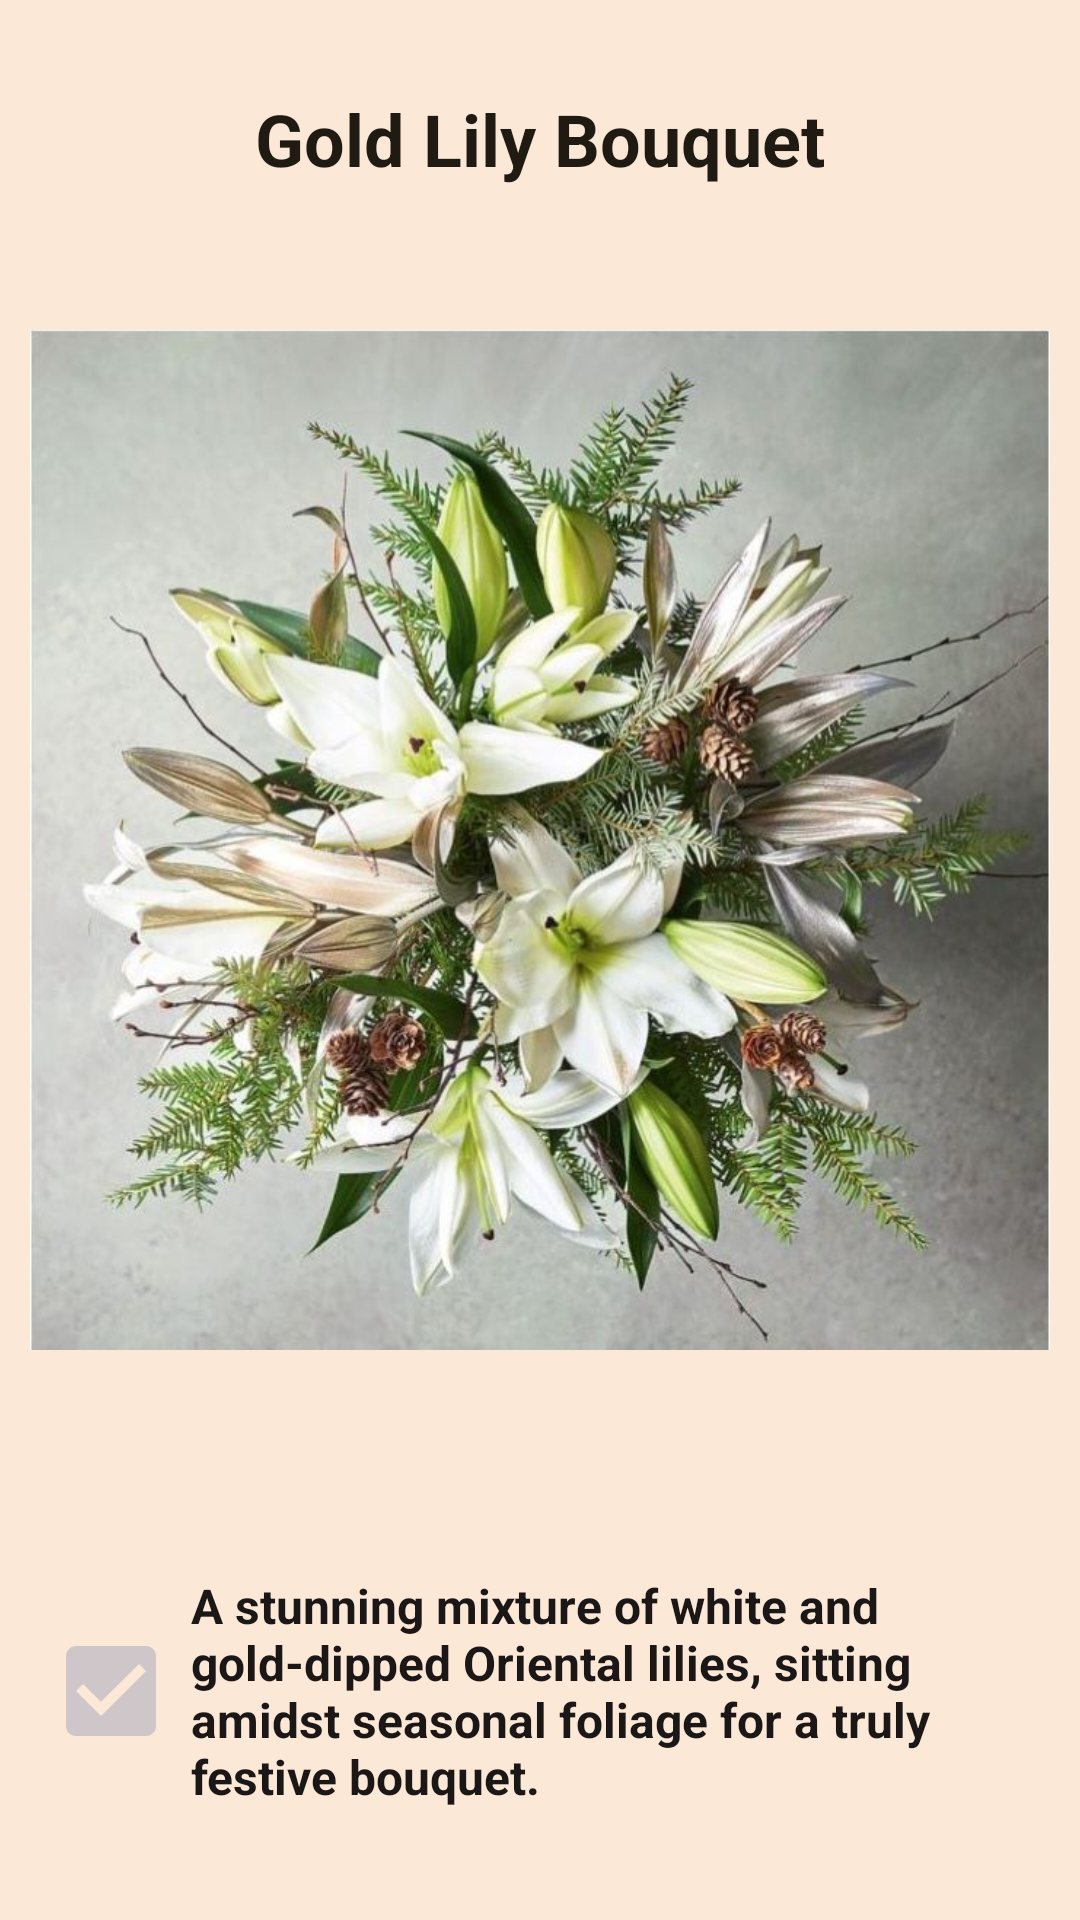

Icons on this 1080px x 1920px Android screen, each with its box as (left=x1, top=y1, right=x2, bottom=y2):
check false: (left=66, top=1646, right=156, bottom=1736)
